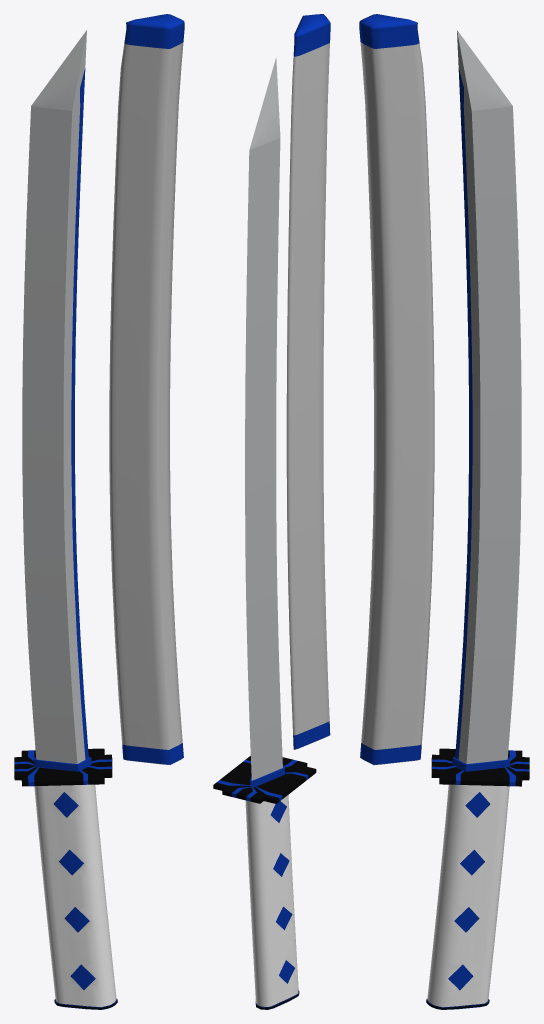
Rendered from Sword2.glb.
3 views of the same model, side by side, from view 1: azimuth 90°, elevation 25°; view 2: azimuth 150°, elevation 25°; view 3: azimuth 270°, elevation 25° (orthographic). The views are drawn at different scales.
Parts seen in each view (by area): view 1: KBlade, KBladeSheath; view 2: KBlade, KBladeSheath; view 3: KBlade, KBladeSheath.
Boxes of the visible parts, x1=… form: KBlade: x1=14, y1=30, x2=117, y2=1009; KBladeSheath: x1=109, y1=14, x2=184, y2=764; KBlade: x1=213, y1=57, x2=316, y2=1009; KBladeSheath: x1=286, y1=14, x2=330, y2=749; KBlade: x1=426, y1=30, x2=529, y2=1009; KBladeSheath: x1=359, y1=14, x2=434, y2=765.
Size of the model in its own units: 0.5 by 7.22 by 1.13.
